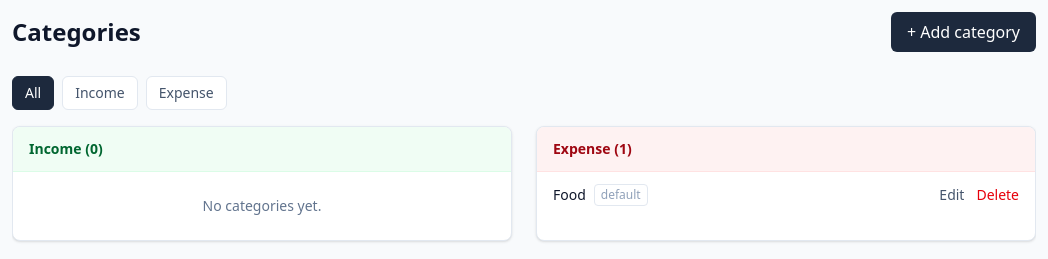
it: CategoriesPage › deletes a category after confirm
Expected: the text "Food" is shown, 553,185 -> 586,205
Click the button "Delete" at [998, 195], box 976,185 -> 1019,205
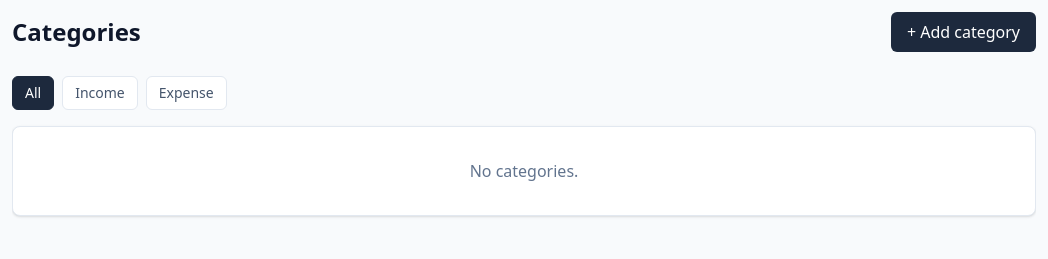
Now the text "No categories." is shown, box 470,160 -> 578,182
